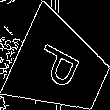P_SE: (32, 40, 89, 96)
